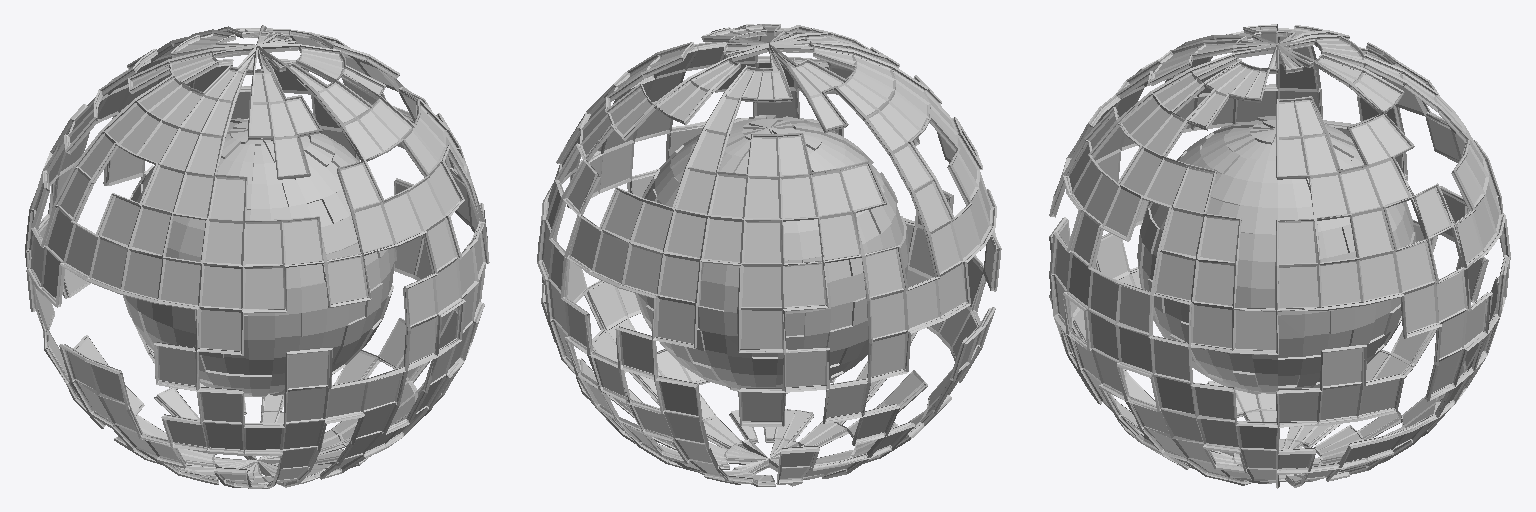
Rendered from MegaSphere.obj.
3 renders of one model, left to right at view 1: azimuth 30°, elevation 25°; view 2: azimuth 150°, elevation 25°; view 3: azimuth 270°, elevation 25°, orthographic.
Parts seen in each view (by area): view 1: Sphere, Sphere.001; view 2: Sphere, Sphere.001; view 3: Sphere, Sphere.001.
Boxes of the visible parts, x1,y1,x2,y2 form: Sphere: [25, 25, 489, 488]; Sphere.001: [123, 118, 396, 396]; Sphere: [537, 24, 1001, 486]; Sphere.001: [635, 115, 908, 393]; Sphere: [1049, 24, 1510, 488]; Sphere.001: [1137, 116, 1416, 394].
Bounding box in the file's own units: 2.05 × 2.06 × 2.03.